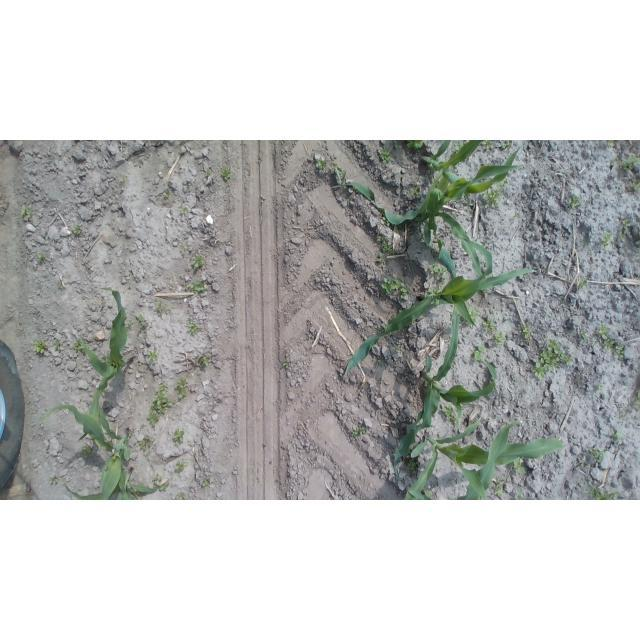Maize: (343, 229, 537, 375), (393, 307, 500, 479), (331, 140, 524, 224), (404, 163, 525, 284), (403, 416, 566, 501), (408, 420, 523, 501), (38, 404, 130, 501), (78, 286, 135, 442), (64, 466, 161, 500)
Weeds: (530, 339, 574, 381), (147, 382, 175, 427), (592, 325, 625, 360), (380, 277, 409, 300), (377, 235, 398, 265), (588, 484, 620, 500), (441, 403, 460, 429), (483, 188, 504, 209), (426, 264, 448, 280), (507, 457, 527, 474), (332, 160, 349, 180), (184, 315, 200, 335), (619, 155, 639, 170), (152, 475, 169, 491), (589, 446, 605, 463), (377, 147, 392, 164), (186, 279, 204, 293), (177, 377, 188, 399), (494, 476, 505, 498), (81, 442, 96, 458), (422, 286, 442, 298), (492, 331, 507, 346), (191, 254, 205, 270), (519, 323, 533, 339), (156, 300, 173, 313), (474, 345, 487, 362), (602, 232, 615, 249), (190, 356, 208, 368), (482, 314, 494, 332), (139, 435, 153, 450), (73, 340, 88, 354), (34, 339, 49, 353), (467, 307, 481, 322), (20, 207, 33, 222), (172, 428, 184, 444), (350, 425, 366, 437), (608, 429, 625, 440), (568, 195, 581, 209), (626, 180, 640, 193), (315, 156, 327, 171), (406, 140, 423, 150), (176, 461, 189, 474), (145, 351, 159, 363), (220, 167, 232, 180), (632, 391, 640, 410), (575, 278, 587, 290), (515, 489, 528, 500), (407, 459, 418, 471), (619, 231, 628, 245), (137, 315, 145, 330), (71, 224, 81, 236), (376, 356, 385, 369), (482, 140, 494, 149), (501, 142, 512, 151), (579, 329, 588, 339), (411, 186, 420, 196), (621, 219, 632, 227), (464, 204, 473, 213), (176, 492, 185, 501), (49, 476, 58, 485), (500, 179, 509, 188), (456, 143, 465, 152), (175, 205, 185, 213), (457, 314, 465, 324), (382, 217, 390, 227), (120, 174, 129, 182), (37, 252, 46, 260), (596, 383, 604, 391), (53, 340, 60, 349), (620, 412, 627, 421), (606, 141, 615, 148), (393, 345, 402, 352), (283, 359, 289, 369), (513, 212, 521, 219), (466, 322, 474, 329), (127, 428, 133, 437), (375, 326, 384, 332), (202, 480, 209, 487), (259, 194, 267, 200), (394, 141, 399, 150), (110, 427, 117, 433), (204, 172, 212, 177), (162, 192, 168, 197), (103, 388, 109, 393), (635, 240, 640, 246), (400, 228, 405, 234), (128, 320, 133, 325), (180, 246, 185, 251), (580, 464, 585, 469), (583, 240, 587, 246), (560, 300, 564, 304), (452, 497, 457, 500)
